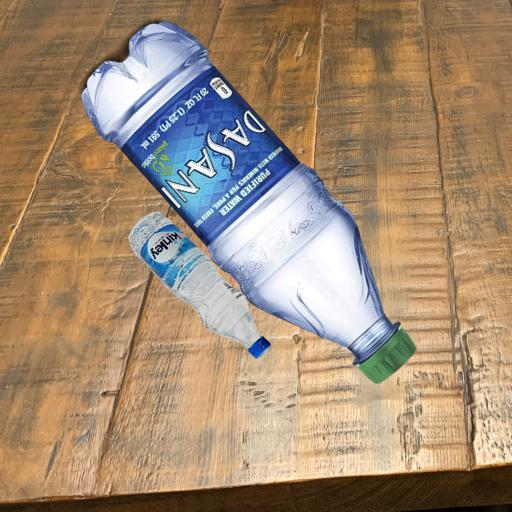bottle: (70, 24, 430, 388), (129, 202, 272, 365)
